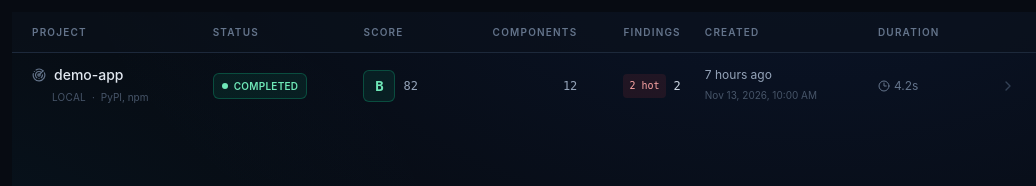
Test: ScanTable › navigates to the scan detail page when a row is clicked
Click the text "demo-app" at point(89, 75), box [54,65,124,85]
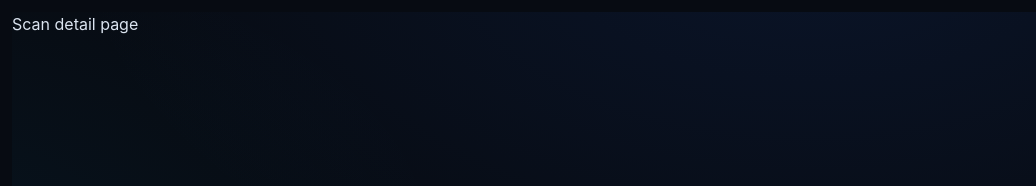
Result: the text "Scan detail page" is shown at [12,14,138,34]
